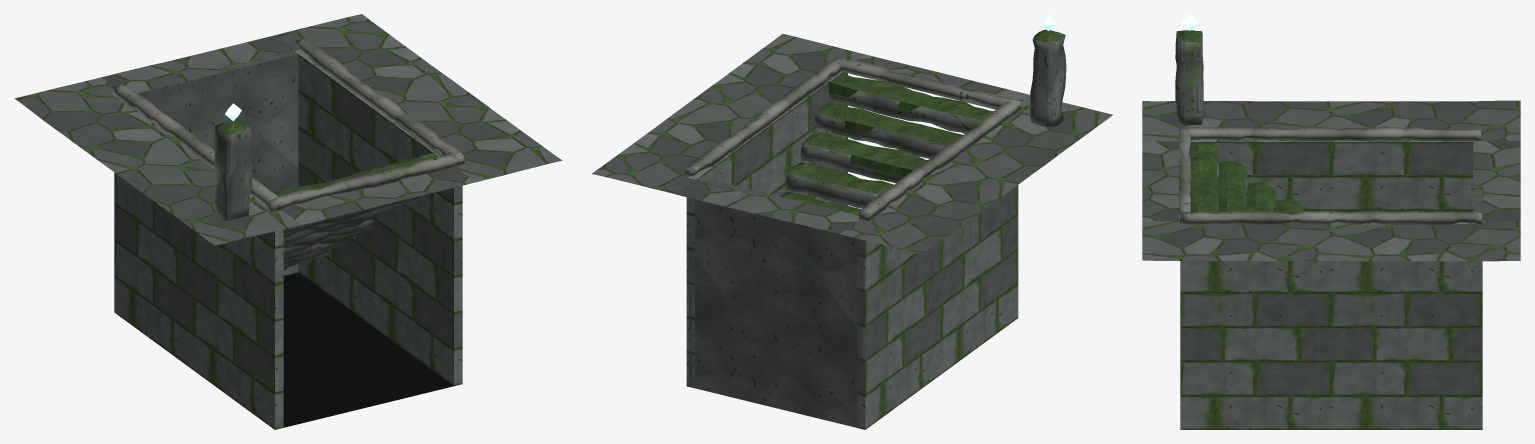
File: mod_stairs_down.glb
The picture shows the model from 3 angles, left to right: view 1: azimuth 30°, elevation 25°; view 2: azimuth 150°, elevation 25°; view 3: azimuth 270°, elevation 25°; orthographic projection. The views are drawn at different scales.
Visible parts, largest first — view 1: mod_stairs_down__stone_wall, mod_stairs_down__stone_floor, mod_stairs_down__dark_void, mod_stairs_down__stone_dark, mod_stairs_down__stone_pale, mod_stairs_down__stone_block, mod_stairs_down__moss; view 2: mod_stairs_down__stone_dark, mod_stairs_down__stone_floor, mod_stairs_down__stone_wall, mod_stairs_down__stone_block, mod_stairs_down__moss, mod_stairs_down__stone_pale; view 3: mod_stairs_down__stone_wall, mod_stairs_down__stone_floor, mod_stairs_down__stone_pale, mod_stairs_down__moss, mod_stairs_down__stone_block.
Part boxes in pixels (x1,y1,x2,y2): mod_stairs_down__stone_wall: (114,49,462,429); mod_stairs_down__stone_floor: (14,14,562,245); mod_stairs_down__dark_void: (283,272,453,427); mod_stairs_down__stone_dark: (137,50,298,275); mod_stairs_down__stone_pale: (112,38,464,210); mod_stairs_down__stone_block: (214,123,418,270); mod_stairs_down__moss: (219,119,435,195); mod_stairs_down__stone_dark: (689,177,862,427); mod_stairs_down__stone_floor: (592,33,1112,253); mod_stairs_down__stone_wall: (686,72,1018,429); mod_stairs_down__stone_block: (783,30,1066,208); mod_stairs_down__moss: (779,29,1065,215); mod_stairs_down__stone_pale: (684,58,1020,221); mod_stairs_down__stone_wall: (1180,138,1482,429); mod_stairs_down__stone_floor: (1142,100,1520,261); mod_stairs_down__stone_pale: (1178,126,1481,225); mod_stairs_down__moss: (1176,30,1302,213); mod_stairs_down__stone_block: (1175,31,1303,211).
Bounding box in the file's own units: 4 × 3.65 × 4.
8 materials, 6 textured.
